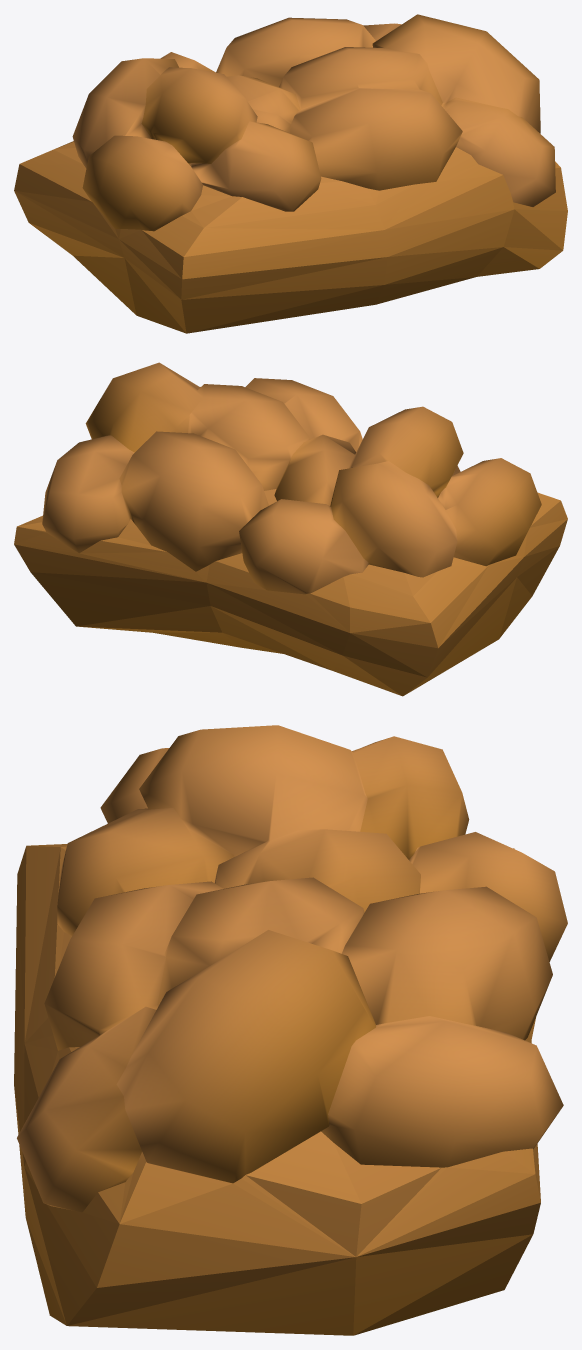
File: potato_pile.fbx
The picture shows the model from 3 angles, top to bottom: view 1: azimuth 30°, elevation 25°; view 2: azimuth 150°, elevation 25°; view 3: azimuth 270°, elevation 25°; orthographic projection. The views are drawn at different scales.
Parts seen in each view (by area): view 1: potato_pile; view 2: potato_pile; view 3: potato_pile.
Boxes of the visible parts, left/top/right/bottom form: potato_pile: left=14, top=14, right=567, bottom=333; potato_pile: left=14, top=362, right=567, bottom=696; potato_pile: left=14, top=725, right=567, bottom=1335.
Bounding box in the file's own units: 408 × 200 × 272.
